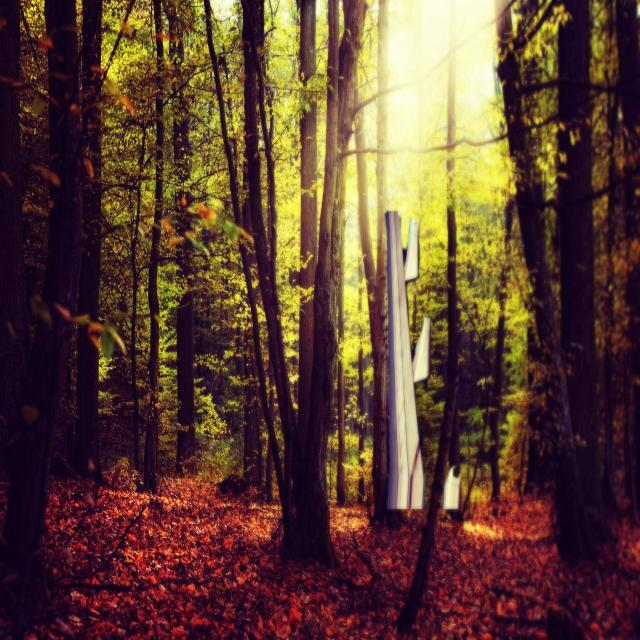airplane: (384, 209, 431, 511)
